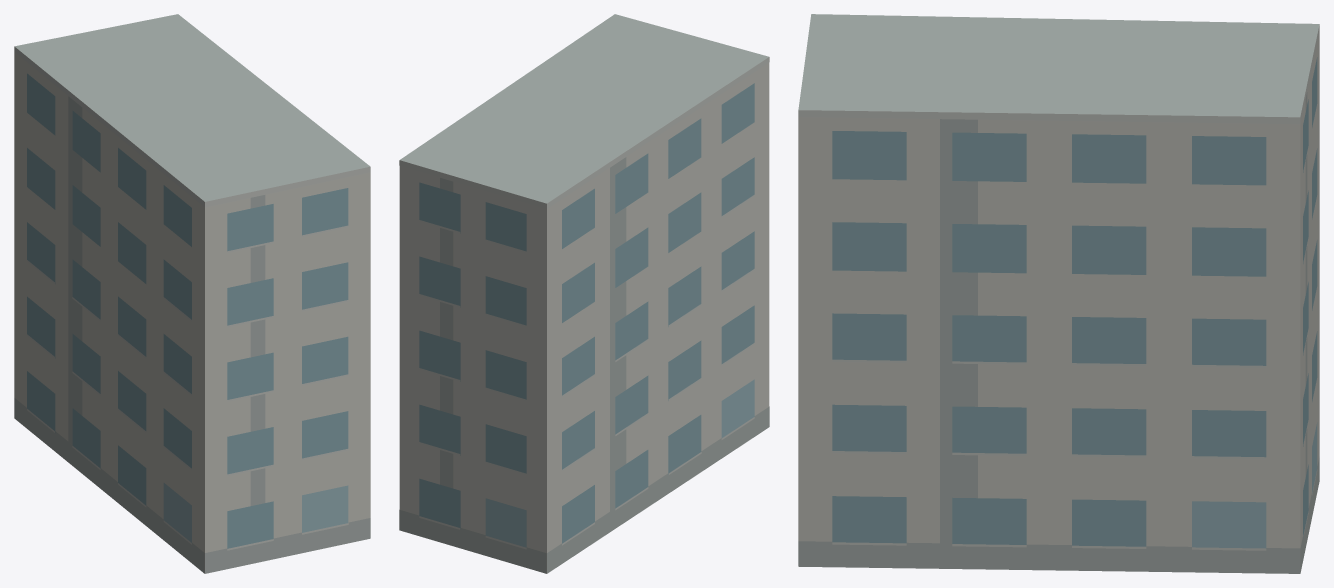
The model's file is survey-upis-33010253.glb.
The picture shows the model from 3 angles, left to right: view 1: azimuth 30°, elevation 25°; view 2: azimuth 150°, elevation 25°; view 3: azimuth 270°, elevation 25°; orthographic projection. The views are drawn at different scales.
Visible parts, largest first — view 1: survey-upis-33010253.tmp; view 2: survey-upis-33010253.tmp; view 3: survey-upis-33010253.tmp.
Boxes of the visible parts, left/top/right/bottom form: survey-upis-33010253.tmp: left=14, top=14, right=370, bottom=573; survey-upis-33010253.tmp: left=399, top=14, right=769, bottom=573; survey-upis-33010253.tmp: left=798, top=14, right=1319, bottom=573.
Bounding box in the file's own units: 7.75 × 15.95 × 16.51.
